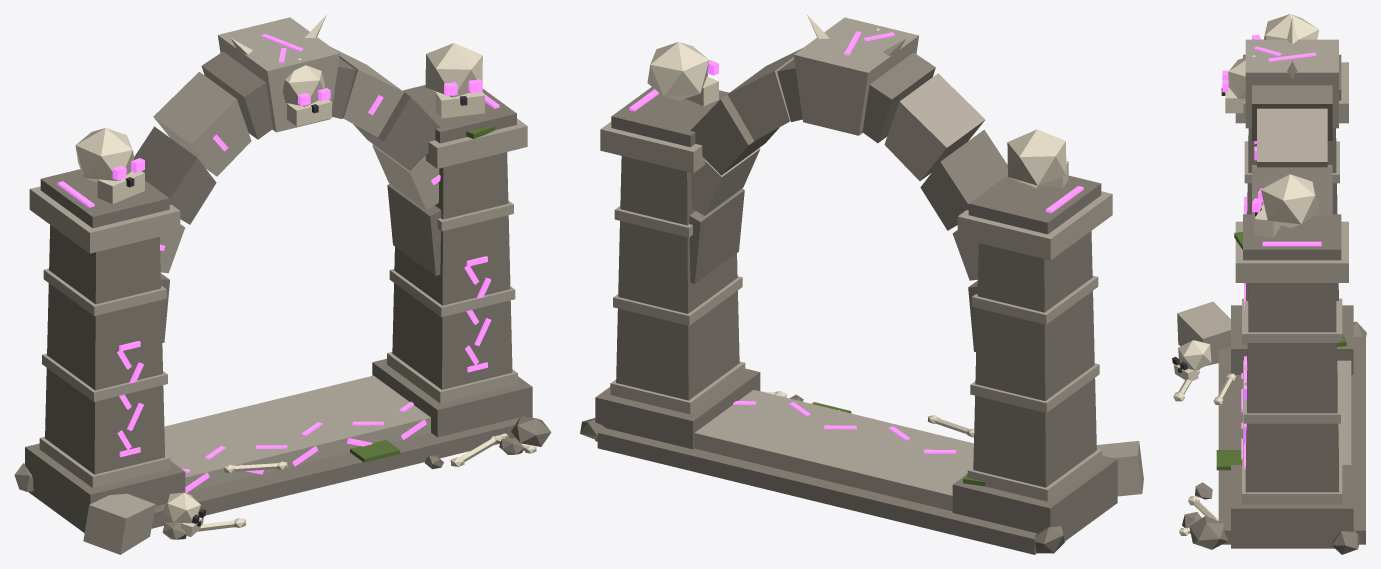
The model's file is SpawnPortal.fbx.
3 renders of one model, left to right at view 1: azimuth 30°, elevation 25°; view 2: azimuth 150°, elevation 25°; view 3: azimuth 270°, elevation 25°, orthographic. The views are drawn at different scales.
Parts seen in each view (by area): view 1: SpawnPortal; view 2: SpawnPortal; view 3: SpawnPortal.
Boxes of the visible parts, left/top/right/bottom form: SpawnPortal: left=14, top=14, right=551, bottom=554; SpawnPortal: left=580, top=15, right=1143, bottom=554; SpawnPortal: left=1172, top=14, right=1366, bottom=554.
Size of the model in its own units: 5.25 by 4.58 by 1.98.
